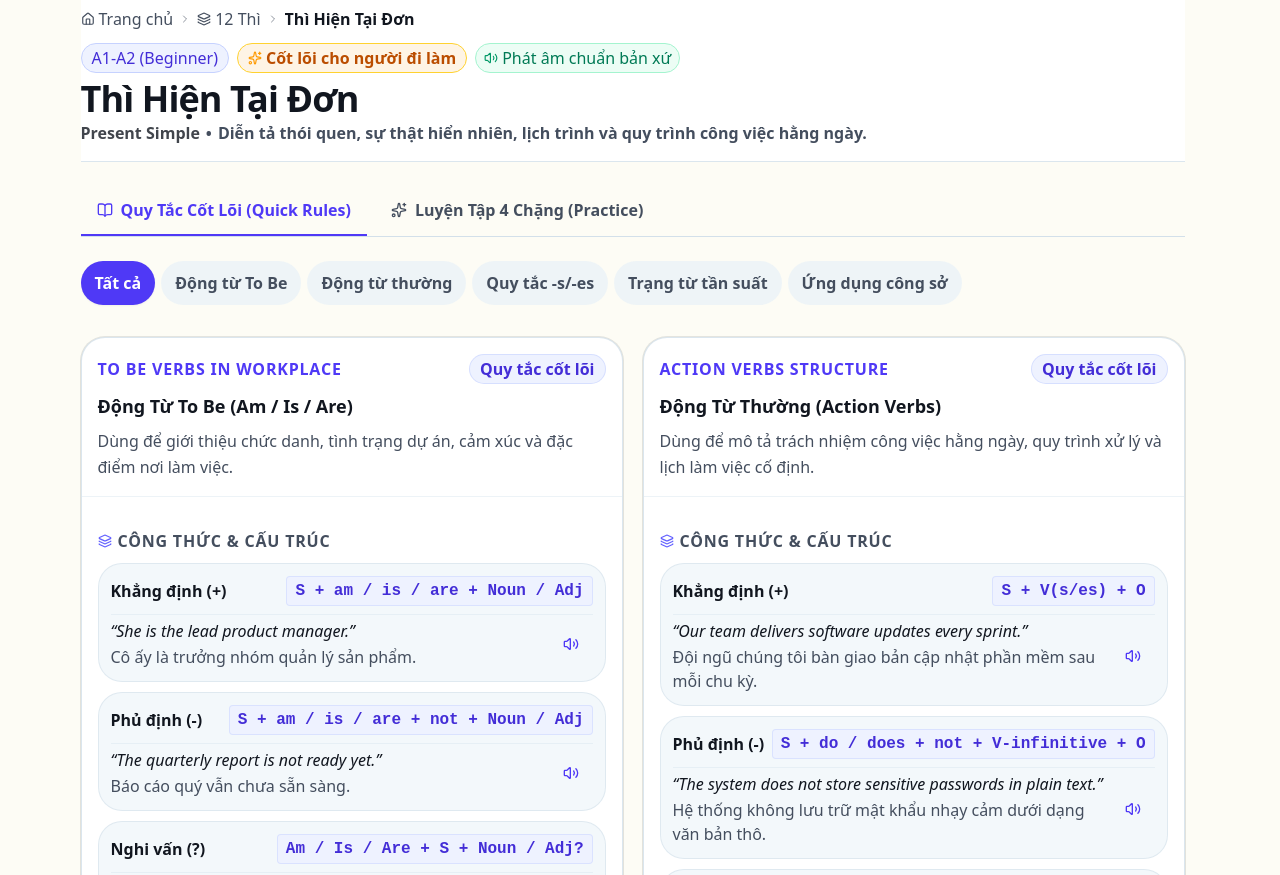
Test: TenseLessonContainer component › completes Stage 1 and persists stage progress into storage
This screenshot has width=1280, height=875.
# Switch to practice tab
Click the tab "Luyện Tập 4 Chặng (Practice)".
click(517, 211)  # box x1=375 y1=186 x2=659 y2=236
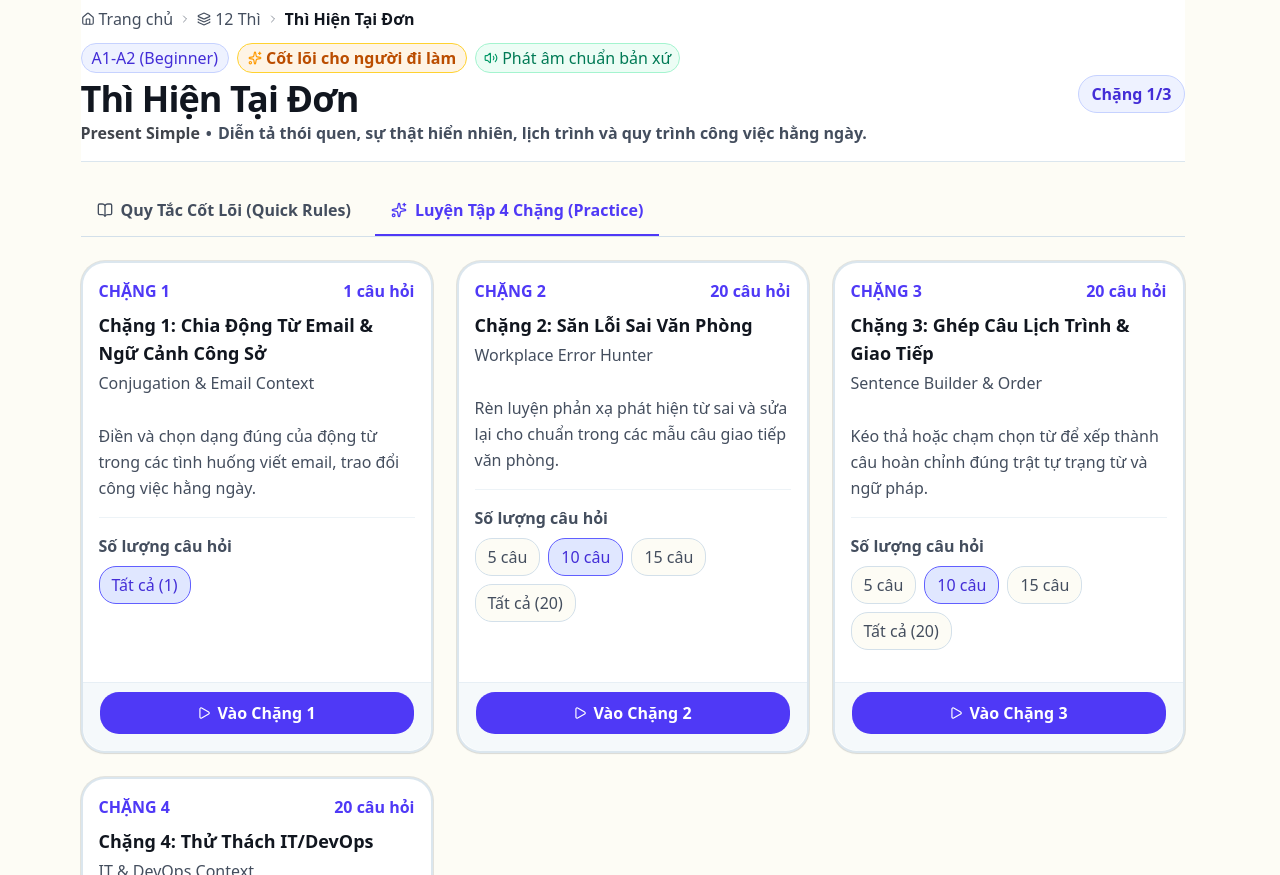
# Enter Stage 1
Click the button "Vào Chặng 1".
click(256, 713)  # box x1=98 y1=691 x2=414 y2=735
(page scrolled)
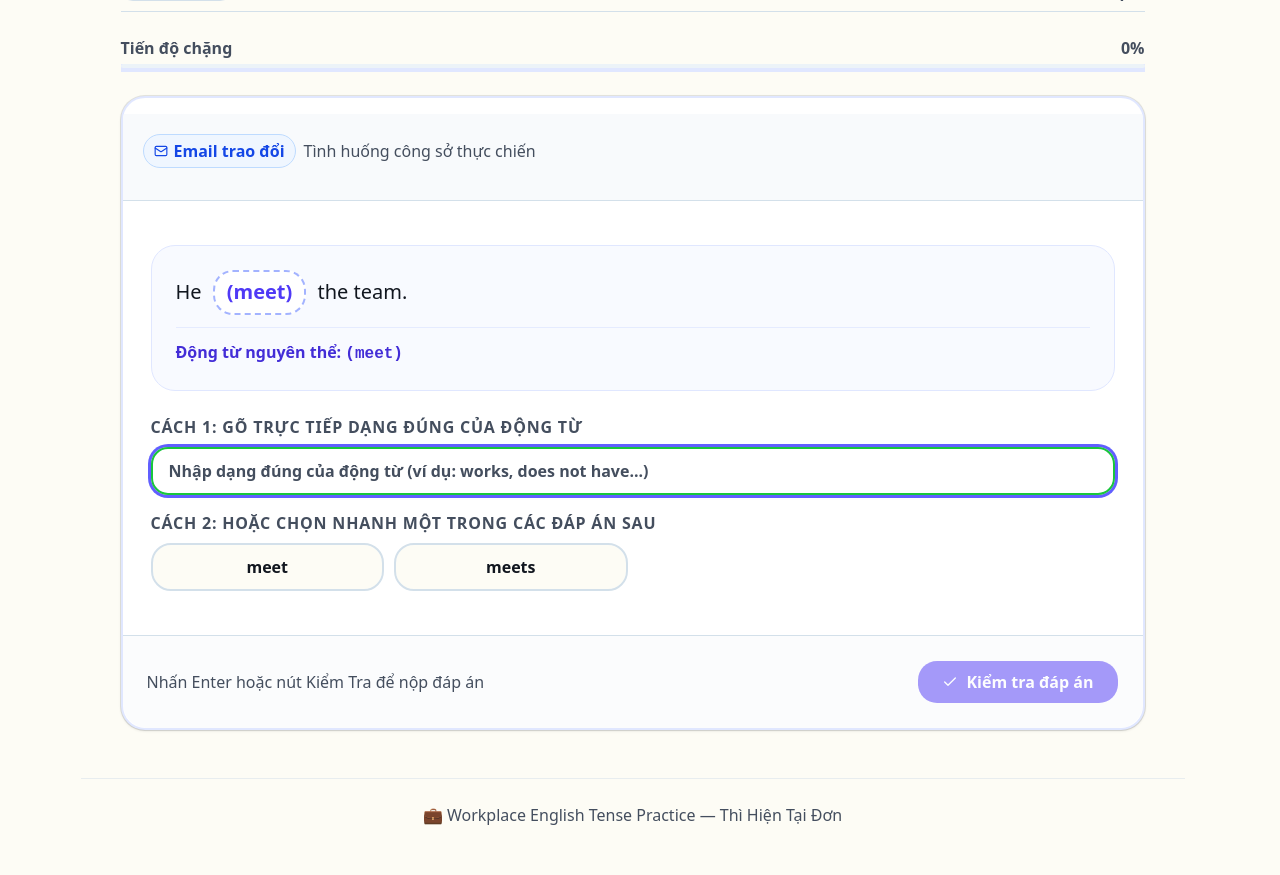
# Answer Q1 correctly
Click the button "meets".
click(511, 566)  # box x1=394 y1=542 x2=628 y2=590
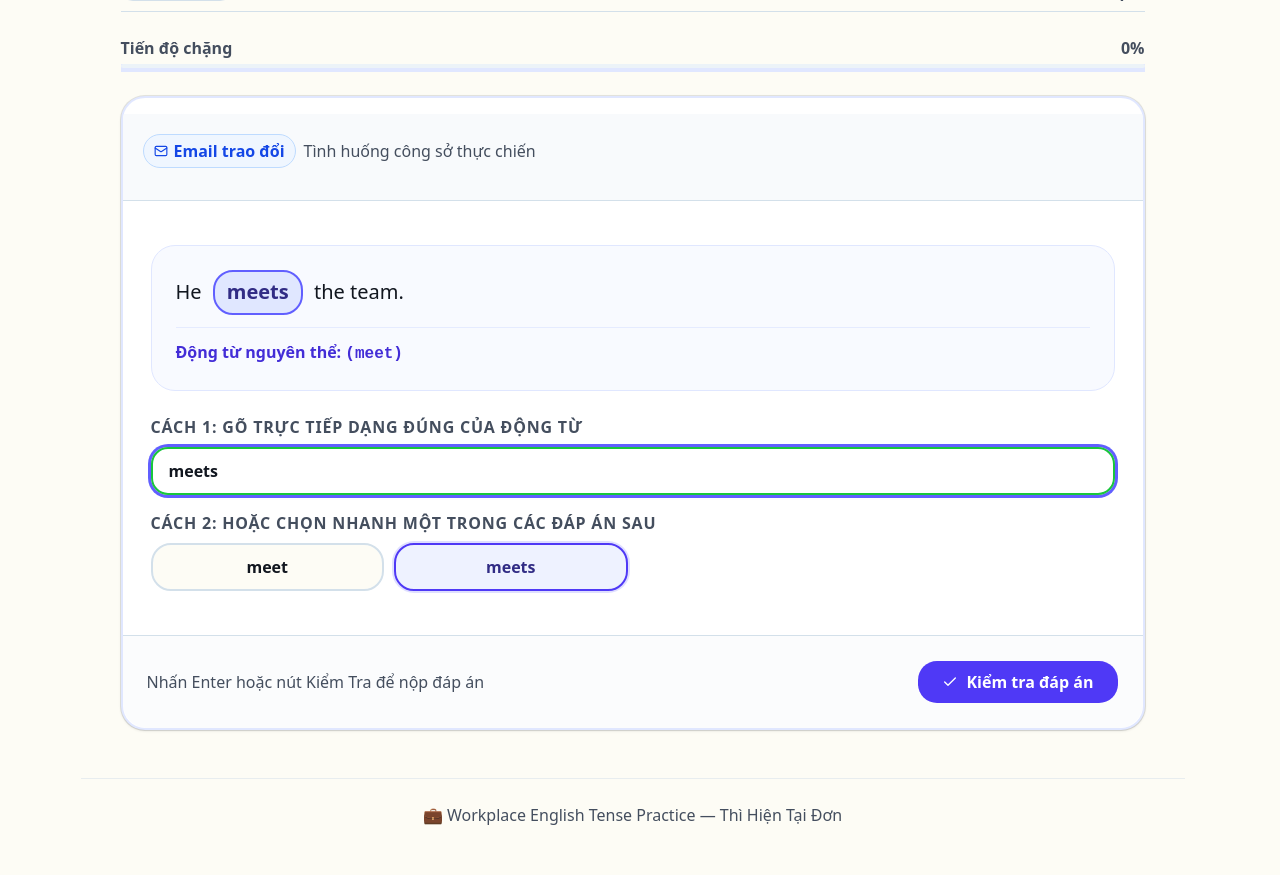
Click the button "Kiểm tra đáp án".
click(1018, 682)  # box x1=917 y1=660 x2=1118 y2=704
(page scrolled)
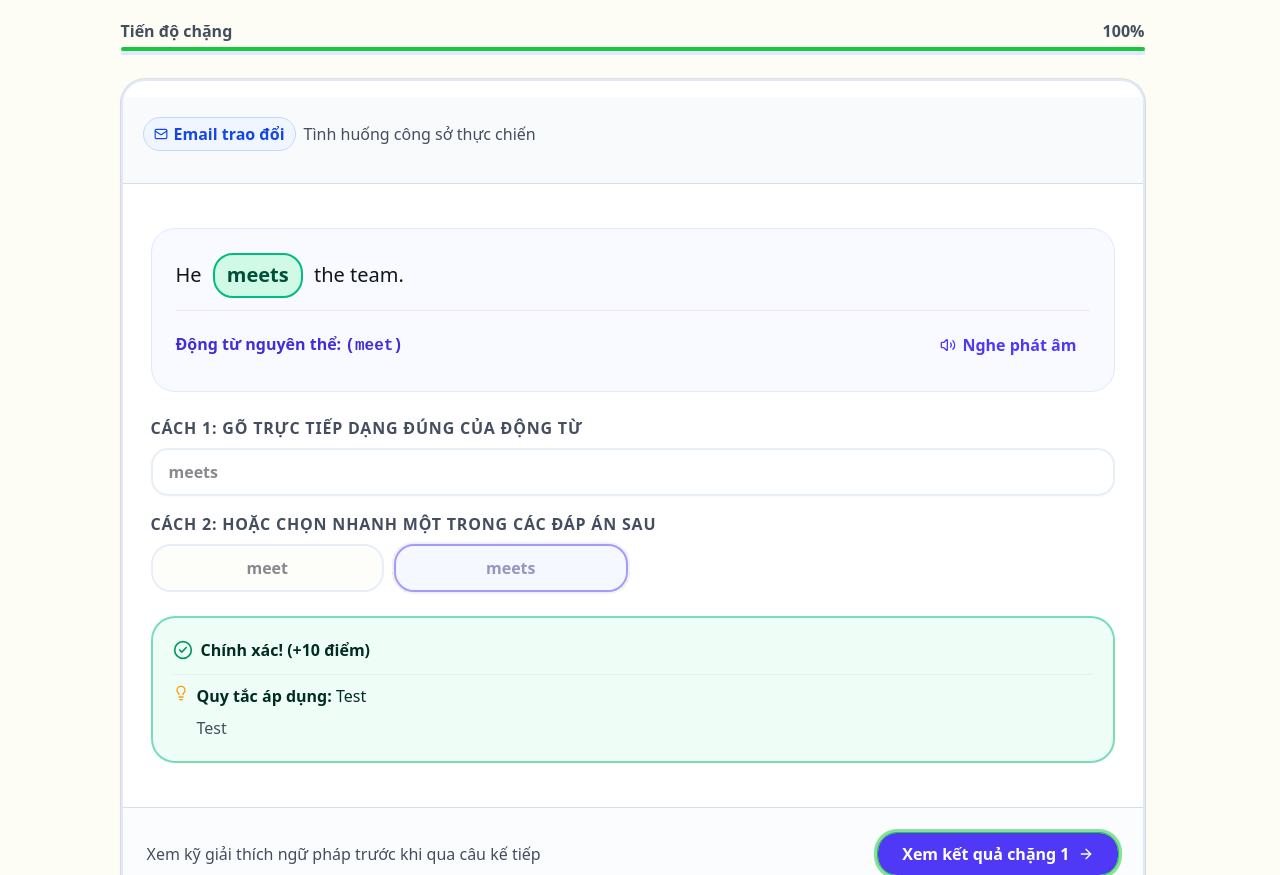
# Finish Stage 1
Click the button "Xem kết quả chặng 1".
click(998, 854)  # box x1=877 y1=832 x2=1118 y2=874
(page scrolled)
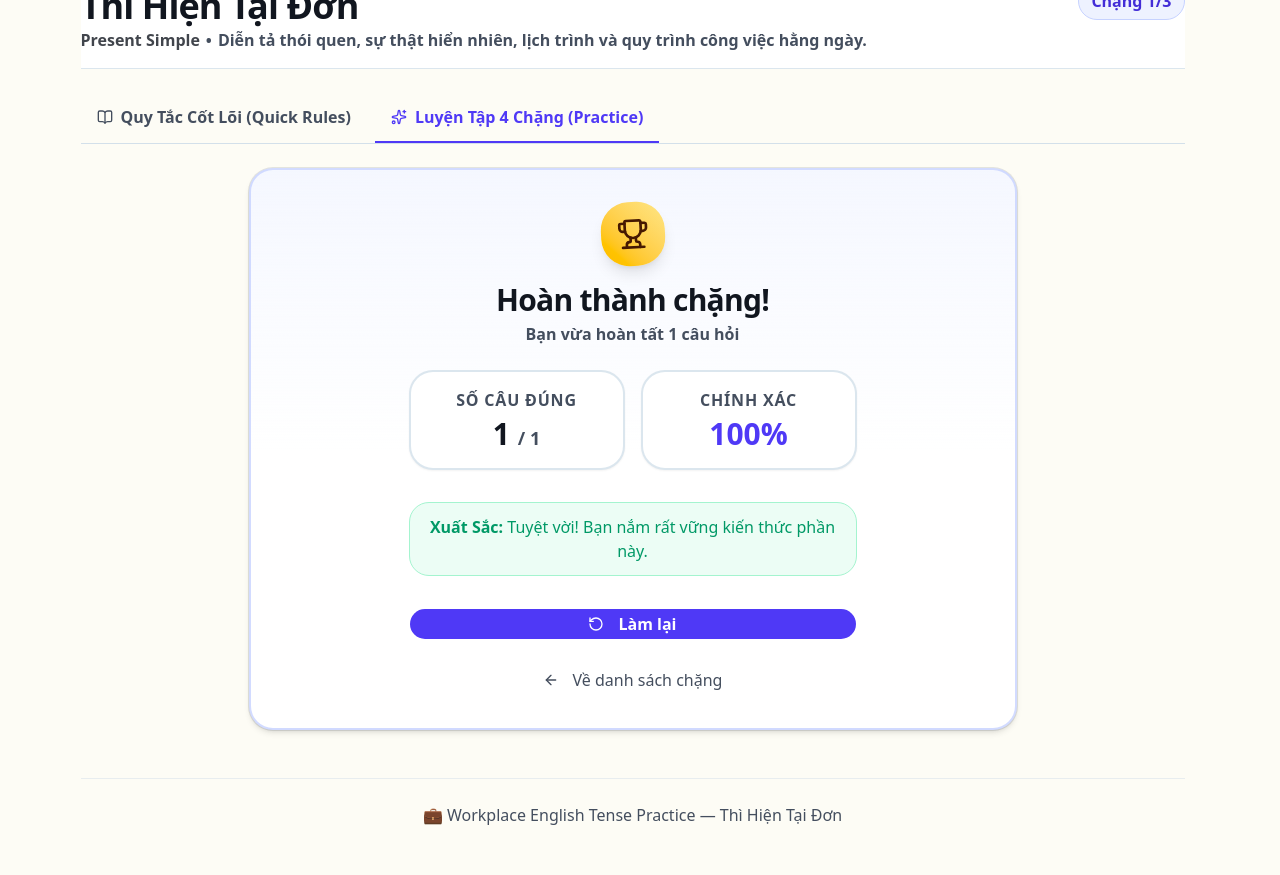
# Return to stage overview from StageResultUI
Click the button "Về danh sách chặng".
click(632, 680)  # box x1=408 y1=664 x2=856 y2=696
(page scrolled)
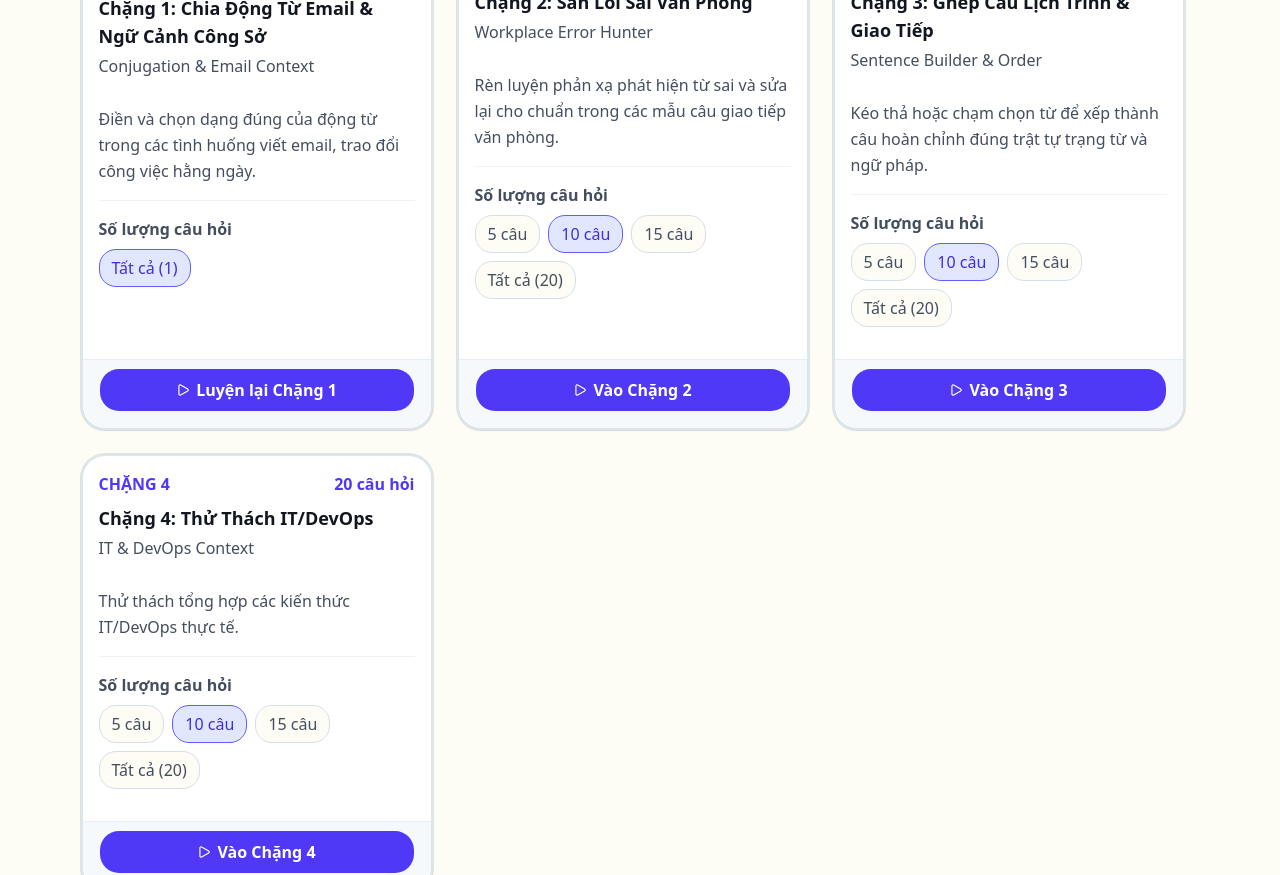
expect the button "Luyện lại Chặng 1" is shown: met, box x1=98 y1=368 x2=414 y2=412
